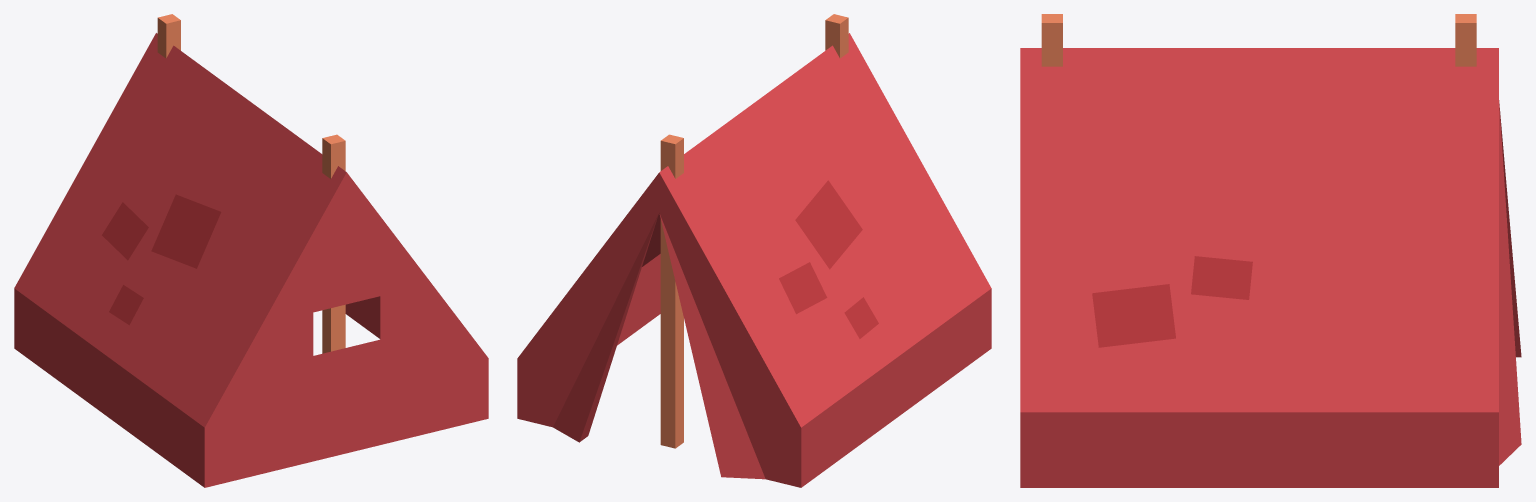
File: tent-small-open.glb
3 views of the same model, side by side, from view 1: azimuth 30°, elevation 25°; view 2: azimuth 150°, elevation 25°; view 3: azimuth 270°, elevation 25° (orthographic). The views are drawn at different scales.
Visible parts, largest first — view 1: tent_smallOpen; view 2: tent_smallOpen; view 3: tent_smallOpen.
Boxes of the visible parts, x1,y1,x2,y2 form: tent_smallOpen: [14, 14, 488, 487]; tent_smallOpen: [517, 14, 991, 487]; tent_smallOpen: [1020, 14, 1521, 487].
Bounding box in the file's own units: 0.5476 × 0.5611 × 0.6664.
